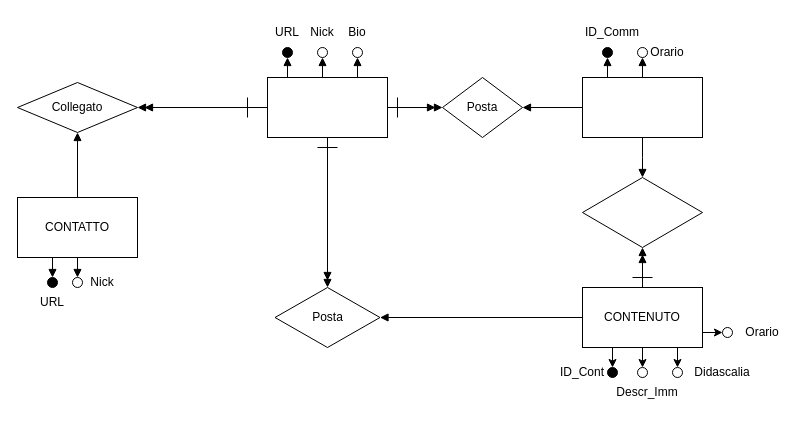
Some shapes in this 810 by 424 pixel diagram are drawn without their labels. Here are the shapes that lost their labels. From the top down, the centre of each, then its label:
[327,107]: UTENTE
[642,107]: COMMENTO
[642,212]: Associato
